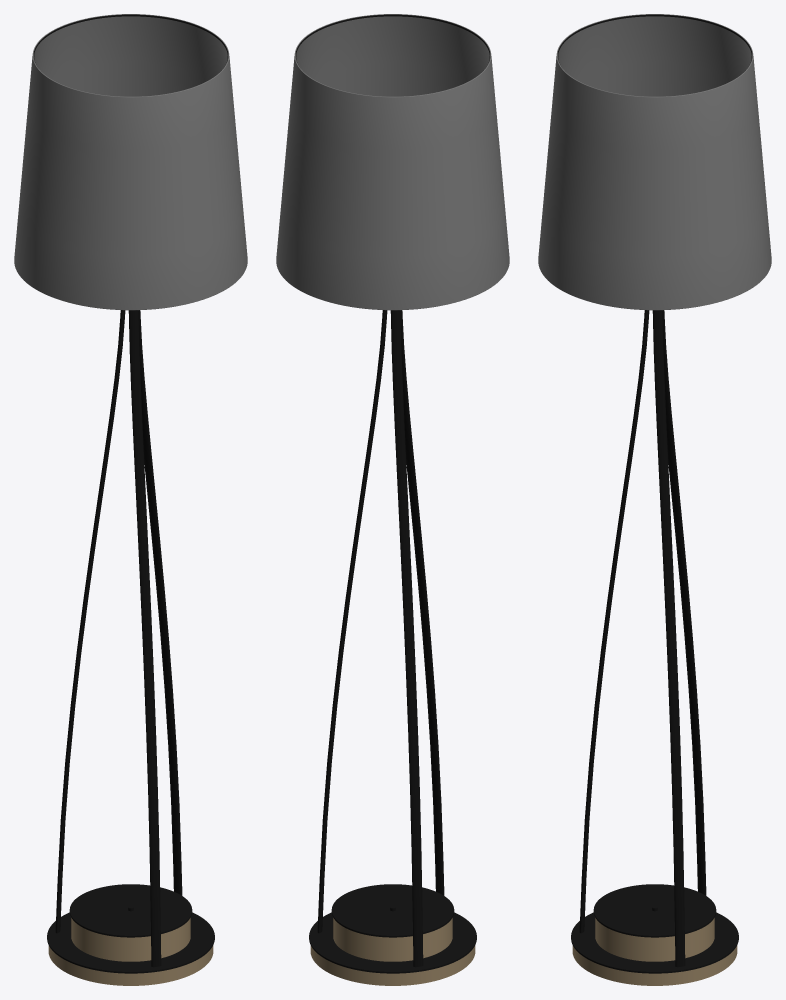
File: torsher.FBX
3 renders of one model, left to right at view 1: azimuth 30°, elevation 25°; view 2: azimuth 150°, elevation 25°; view 3: azimuth 270°, elevation 25°, orthographic.
Visible parts, largest first — view 1: Object29; view 2: Object29; view 3: Object29.
Boxes of the visible parts, x1,y1,x2,y2 form: Object29: (14,14,247,985); Object29: (276,14,509,985); Object29: (538,14,771,985).
Bounding box in the file's own units: 1027 × 4345 × 1027.
